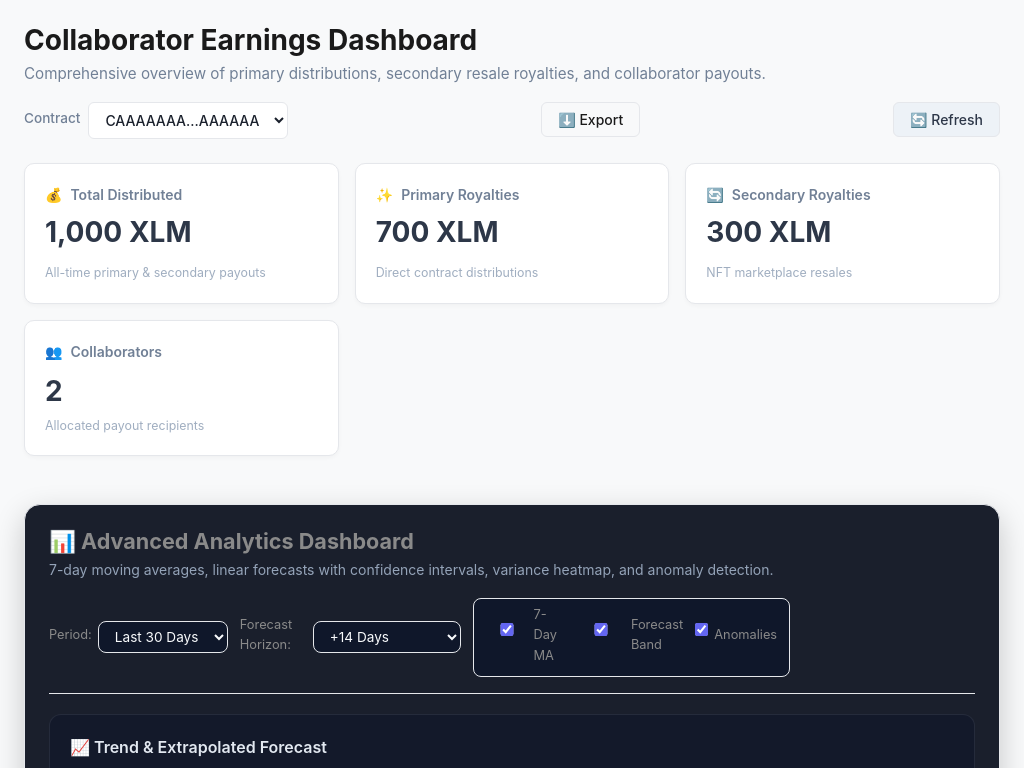
it: EarningsDashboard Component › dashboard export (#770) › shows an error banner when PDF export fails
Click the button "⬇️ Export" at (591, 119), box [541,102,640,137]
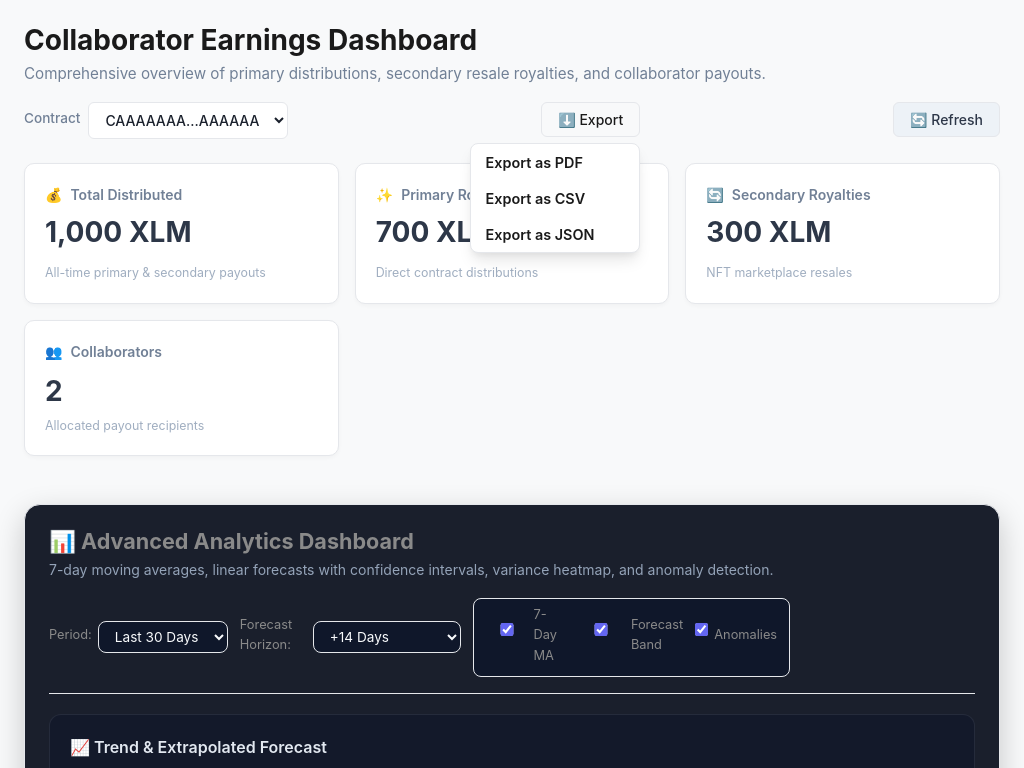
Click the menu item "Export as PDF" at (555, 162), box [471,144,639,180]
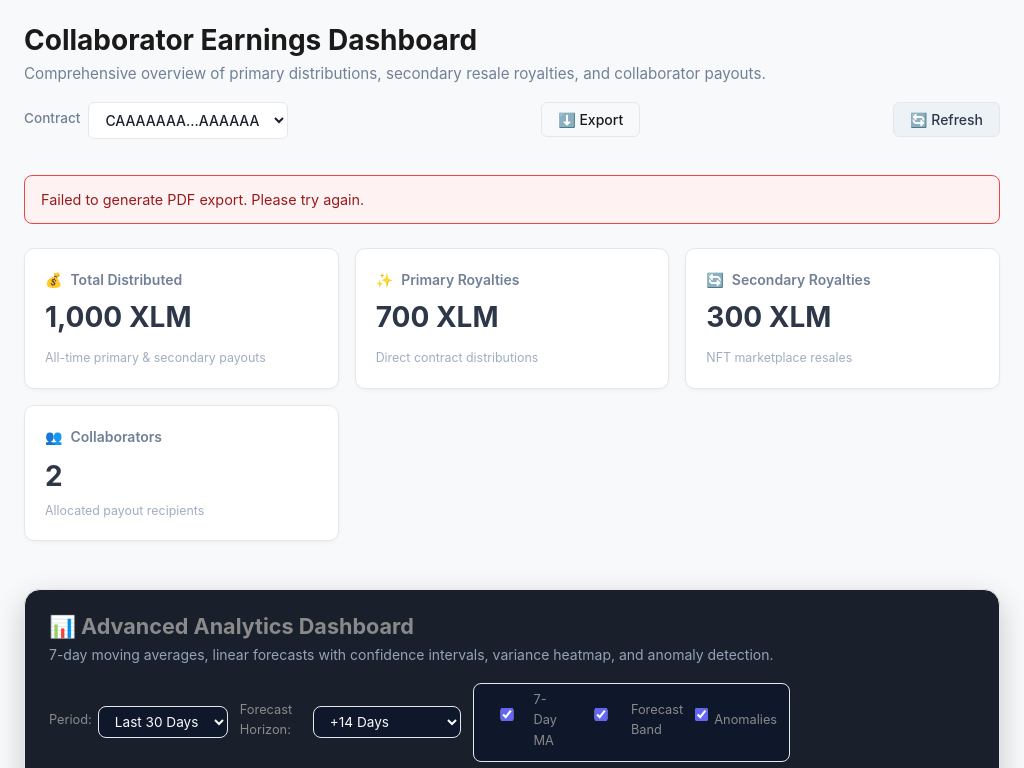
Expected: the message shows "Failed to generate PDF export", [41,191,364,208]
